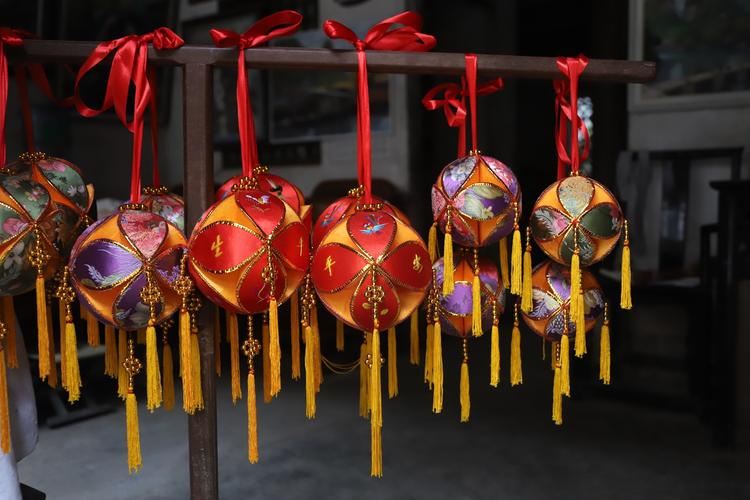xiuqiu: (311, 204, 432, 328), (188, 191, 309, 314)
